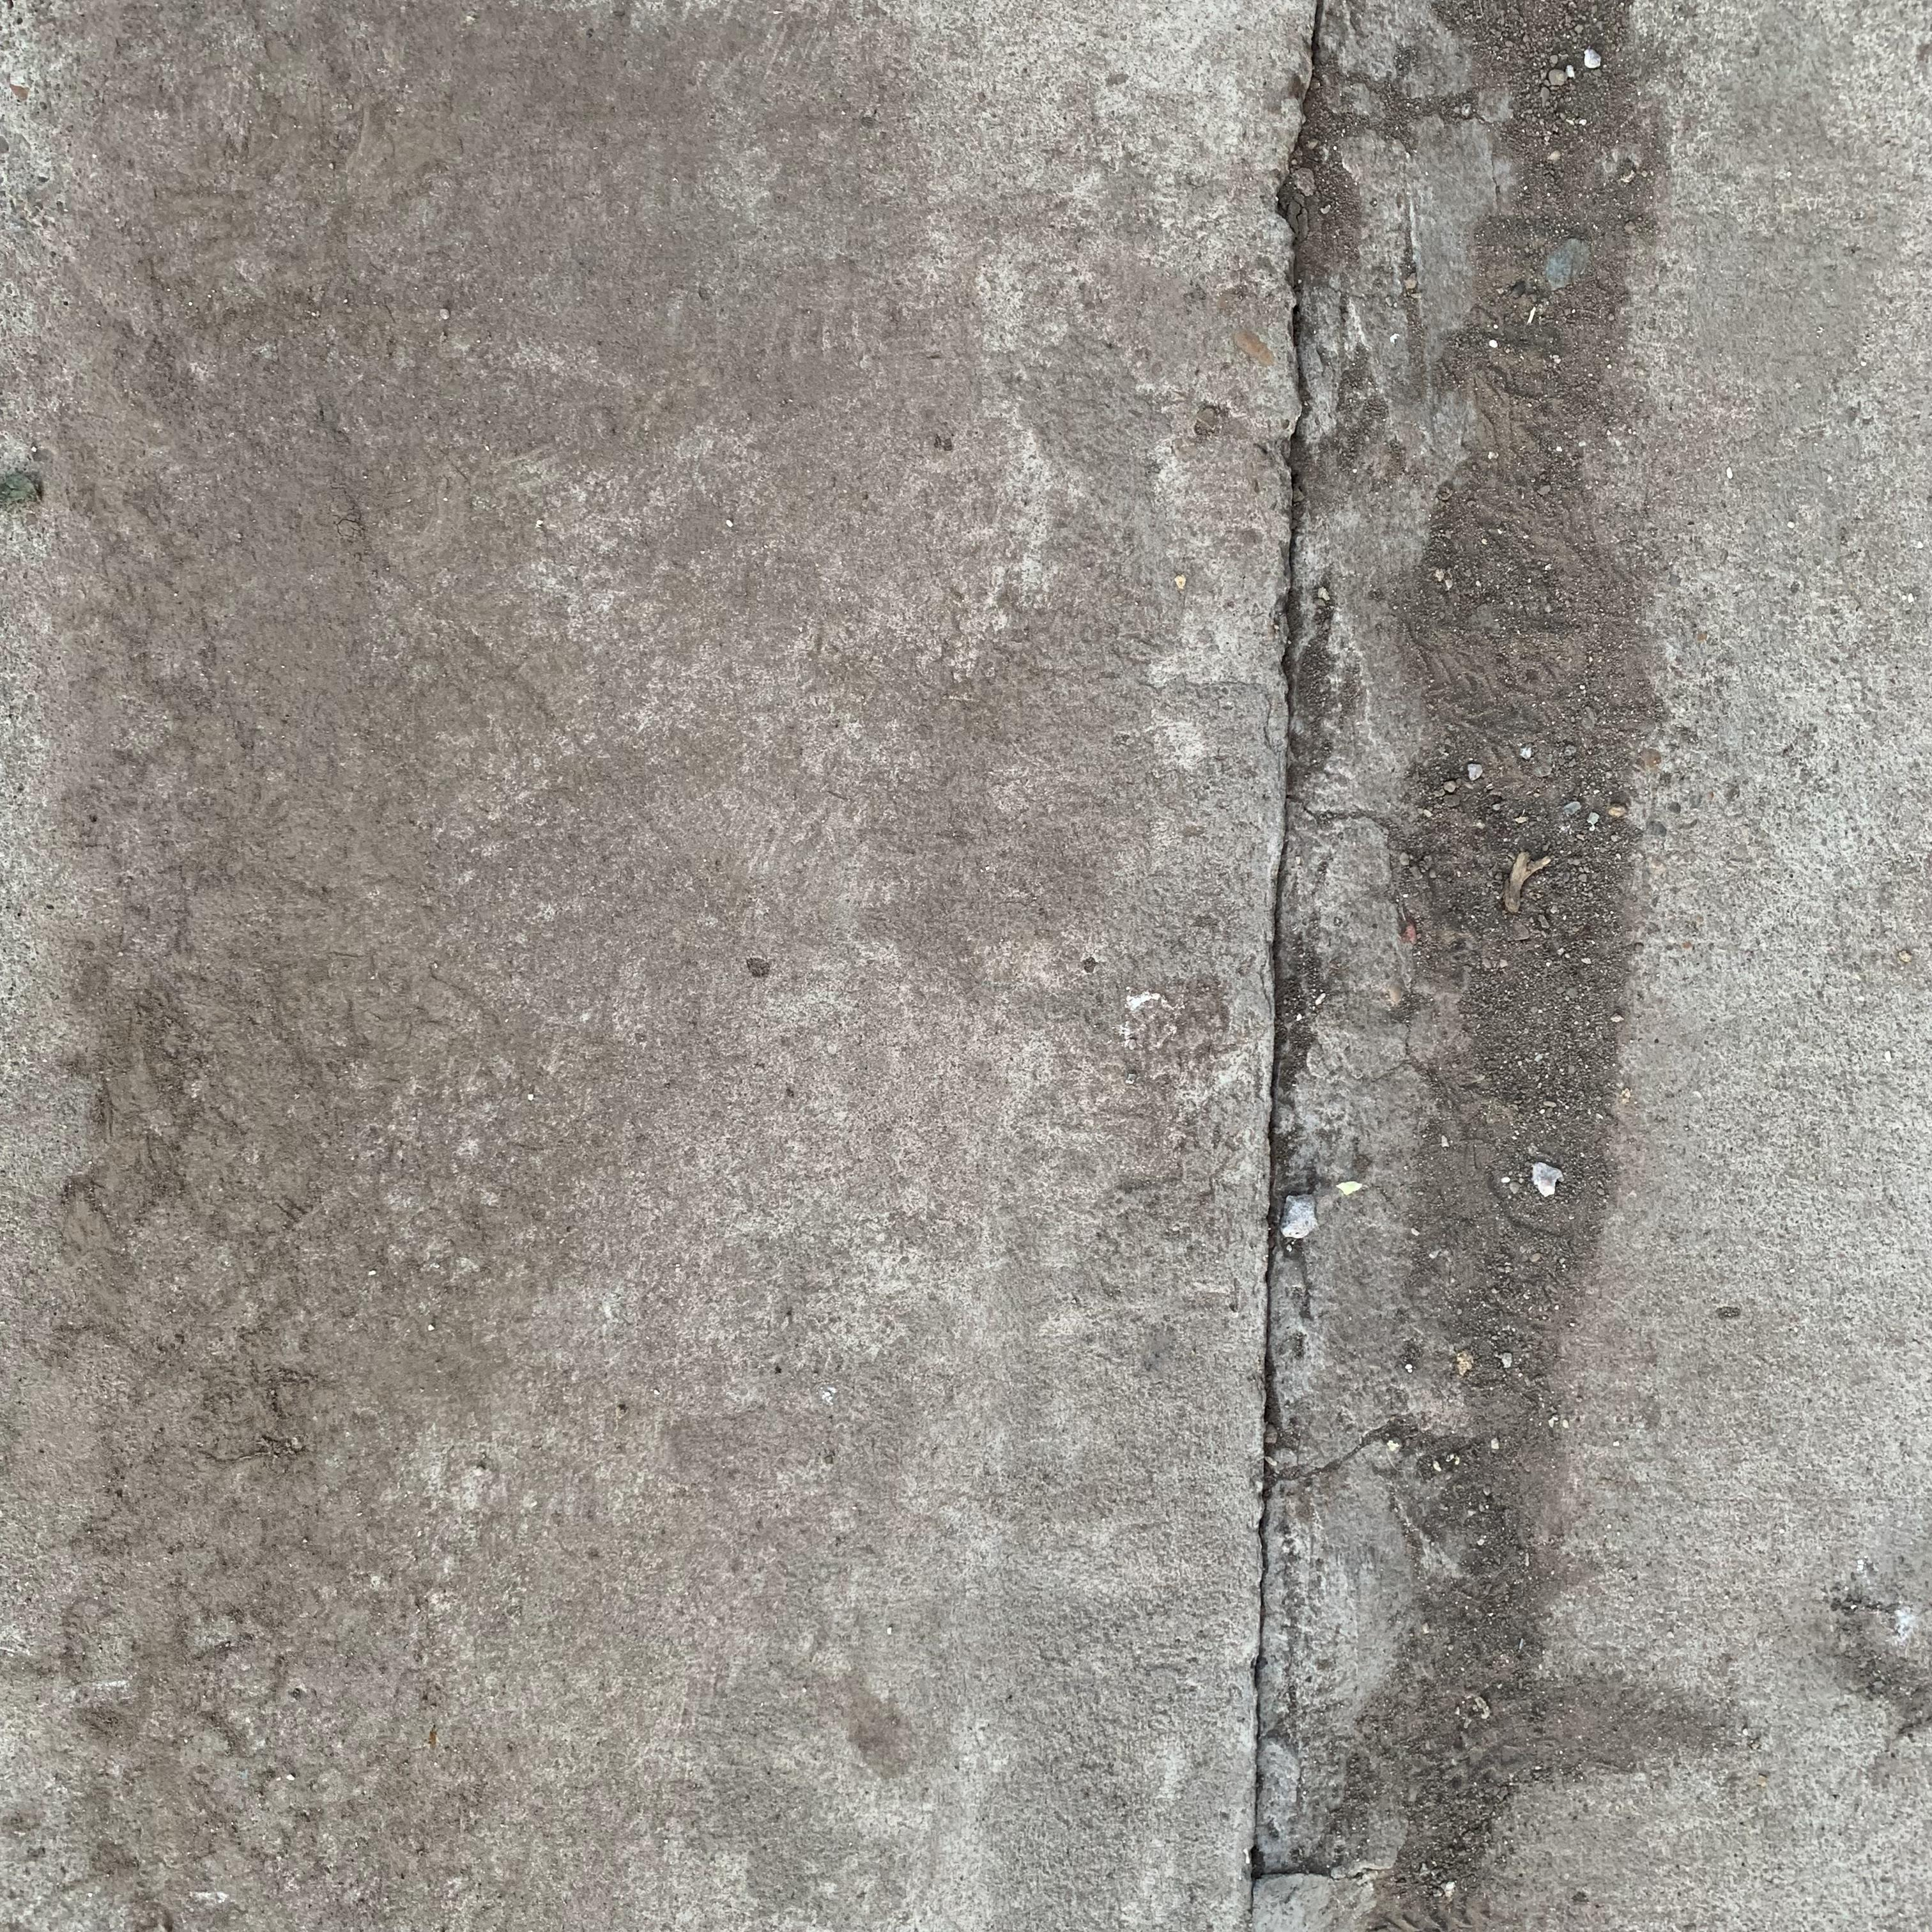grey spot: (1378, 5, 1665, 1928)
